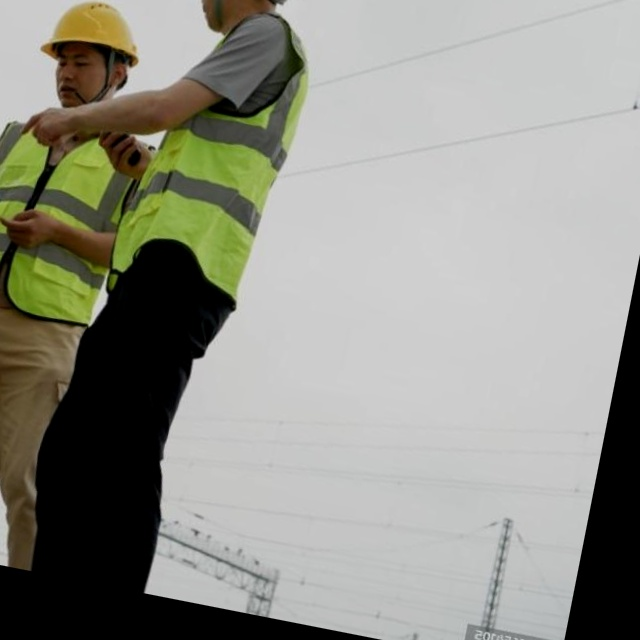Con_Casco: (30, 0, 146, 116), (176, 0, 319, 43)
Con_Chaleco: (114, 2, 317, 305), (0, 100, 148, 338)
